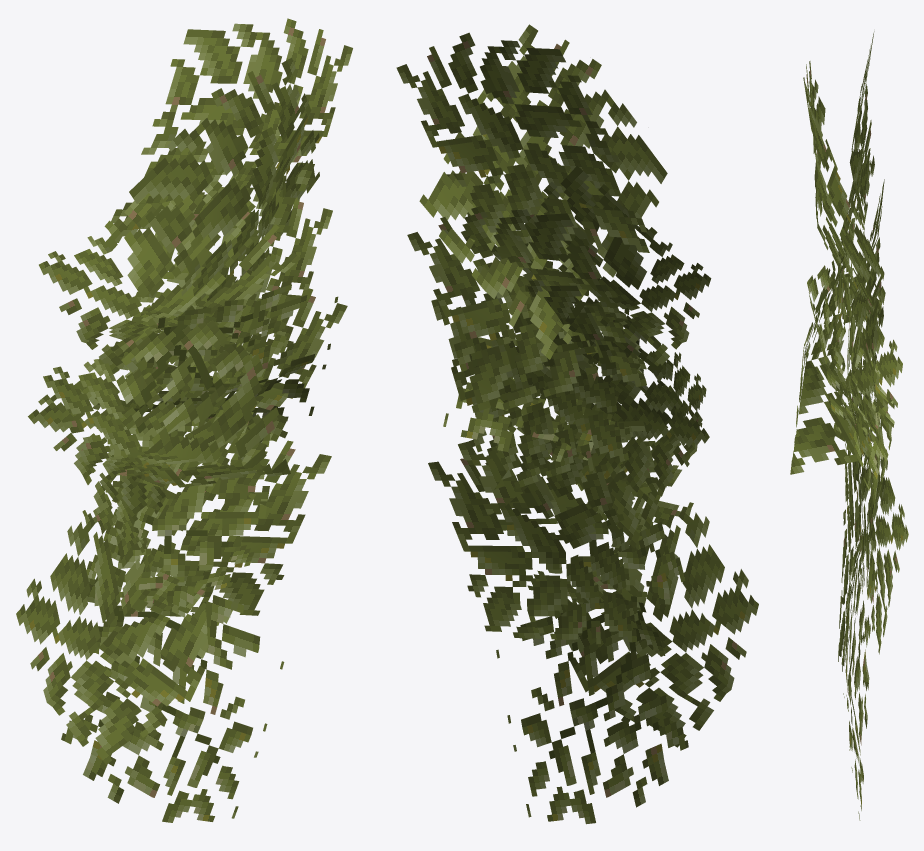
Rendered from vine_hanging_alt.glb.
3 views of the same model, side by side, from view 1: azimuth 30°, elevation 25°; view 2: azimuth 150°, elevation 25°; view 3: azimuth 270°, elevation 25° (orthographic). The views are drawn at different scales.
Visible parts, largest first — view 1: vine_hanging_alt; view 2: vine_hanging_alt; view 3: vine_hanging_alt.
Boxes of the visible parts, x1,y1,x2,y2 form: vine_hanging_alt: (16,18,352,822); vine_hanging_alt: (396,24,758,824); vine_hanging_alt: (790,31,908,820).
Bounding box in the file's own units: 1.24 × 2.71 × 0.3665.
Materials: 1 (1 with a texture image).
